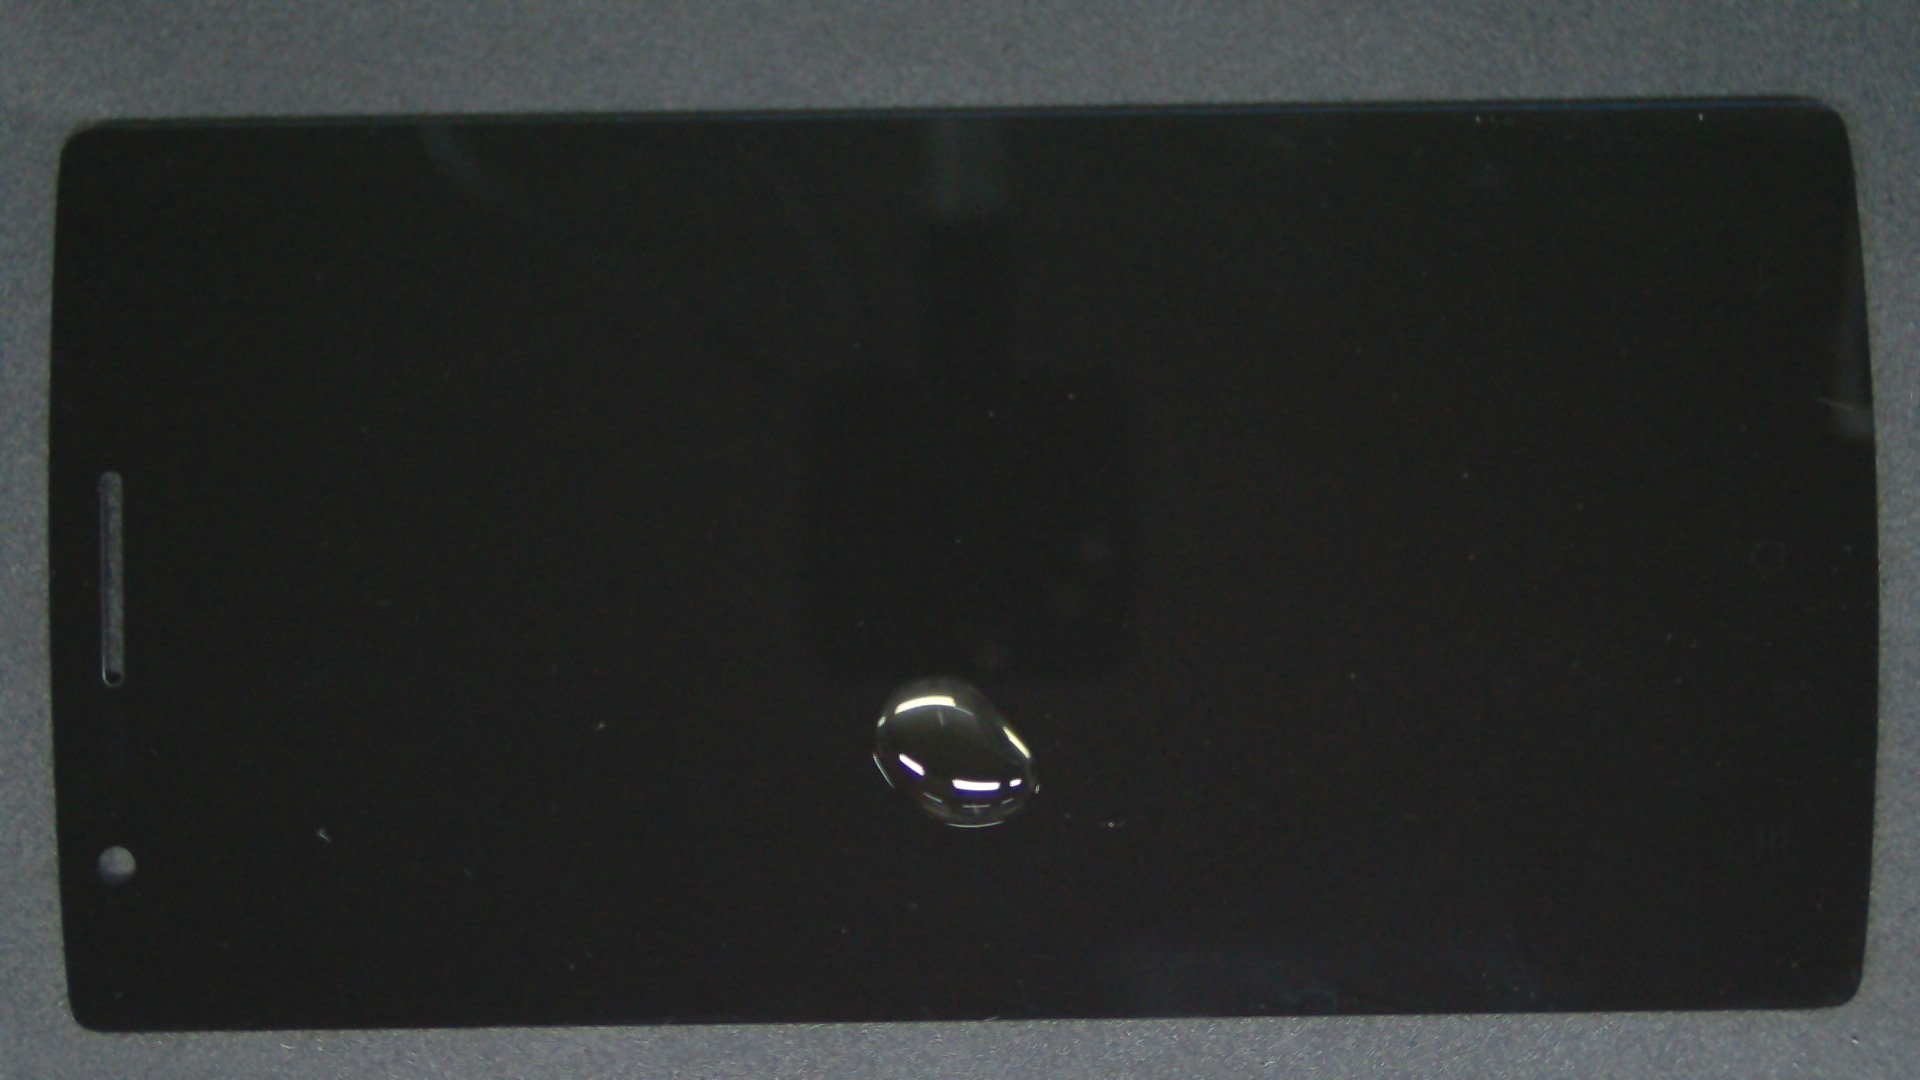oil: (465, 338, 1393, 1013)
